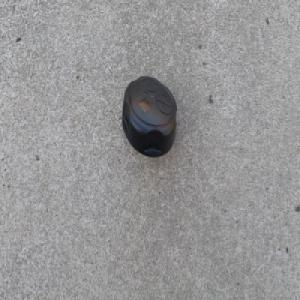FuelCap: (119, 74, 178, 162)
